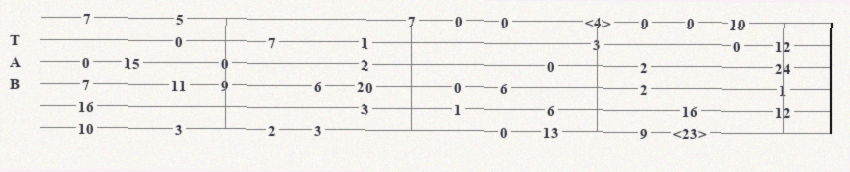0: (82, 57, 94, 71), (175, 35, 187, 49), (221, 57, 233, 71), (454, 79, 466, 93), (454, 13, 466, 27), (500, 123, 512, 137), (500, 13, 512, 27), (547, 57, 559, 71), (640, 13, 652, 27), (686, 13, 698, 27), (733, 35, 745, 49)
1: (361, 35, 373, 49), (454, 101, 466, 115), (779, 79, 791, 93)
10: (78, 123, 98, 137), (729, 13, 749, 27)
11: (171, 79, 191, 93)
12: (775, 35, 795, 49), (775, 101, 795, 115)
13: (543, 123, 563, 137)
15: (124, 57, 144, 71)
16: (78, 101, 98, 115), (682, 101, 702, 115)
2: (268, 123, 280, 137), (361, 57, 373, 71), (640, 79, 652, 93), (640, 57, 652, 71)
20: (357, 79, 377, 93)
24: (775, 57, 795, 71)
3: (175, 123, 187, 137), (314, 123, 326, 137), (361, 101, 373, 115), (593, 35, 605, 49)
5: (175, 13, 187, 27)
6: (314, 79, 326, 93), (500, 79, 512, 93), (547, 101, 559, 115)
7: (82, 13, 94, 27), (82, 79, 94, 93), (268, 35, 280, 49), (407, 13, 419, 27)
9: (221, 79, 233, 93), (640, 123, 652, 137)
harmonic: (673, 123, 711, 137), (584, 13, 614, 27)
